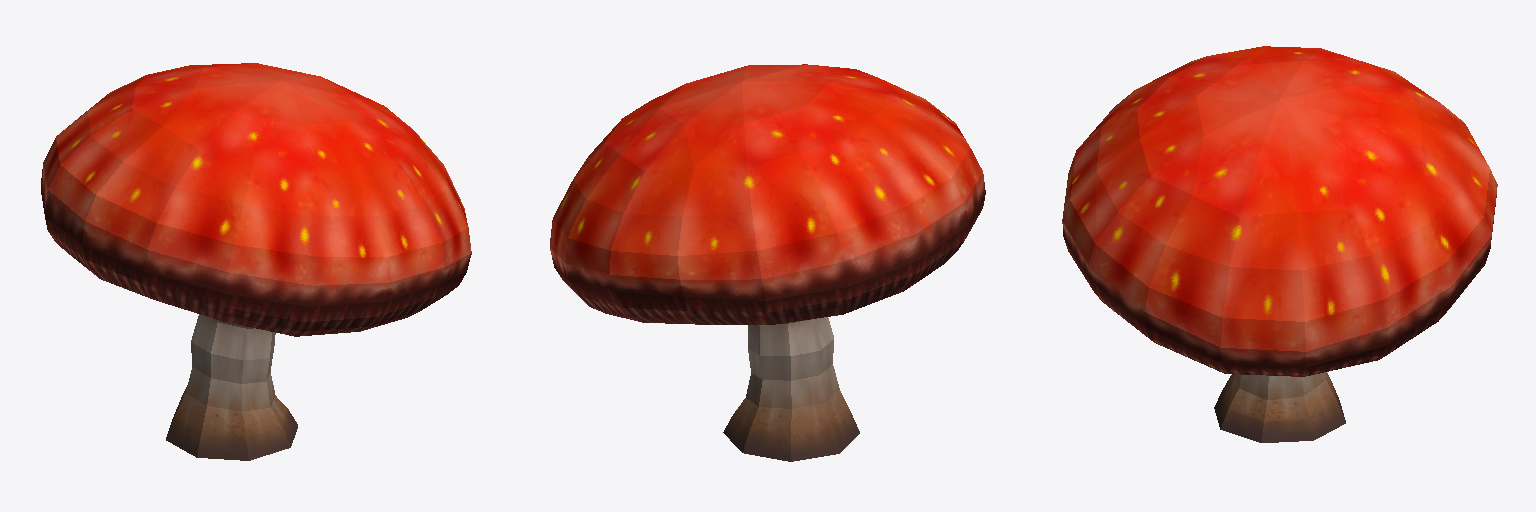
The picture shows the model from 3 angles: view 1: azimuth 30°, elevation 25°; view 2: azimuth 150°, elevation 25°; view 3: azimuth 270°, elevation 25°; orthographic projection.
Visible parts, largest first — view 1: rg_30_0; view 2: rg_30_0; view 3: rg_30_0.
Part boxes in pixels (bbox=[...]): rg_30_0: bbox=[41, 63, 471, 460]; rg_30_0: bbox=[550, 64, 985, 461]; rg_30_0: bbox=[1062, 46, 1497, 442].
Size of the model in its own units: 1.41 by 1.24 by 1.43.
1 materials, 1 textured.